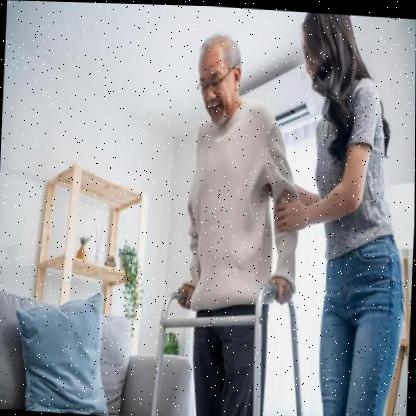person: (159, 26, 308, 416), (279, 12, 416, 416)
